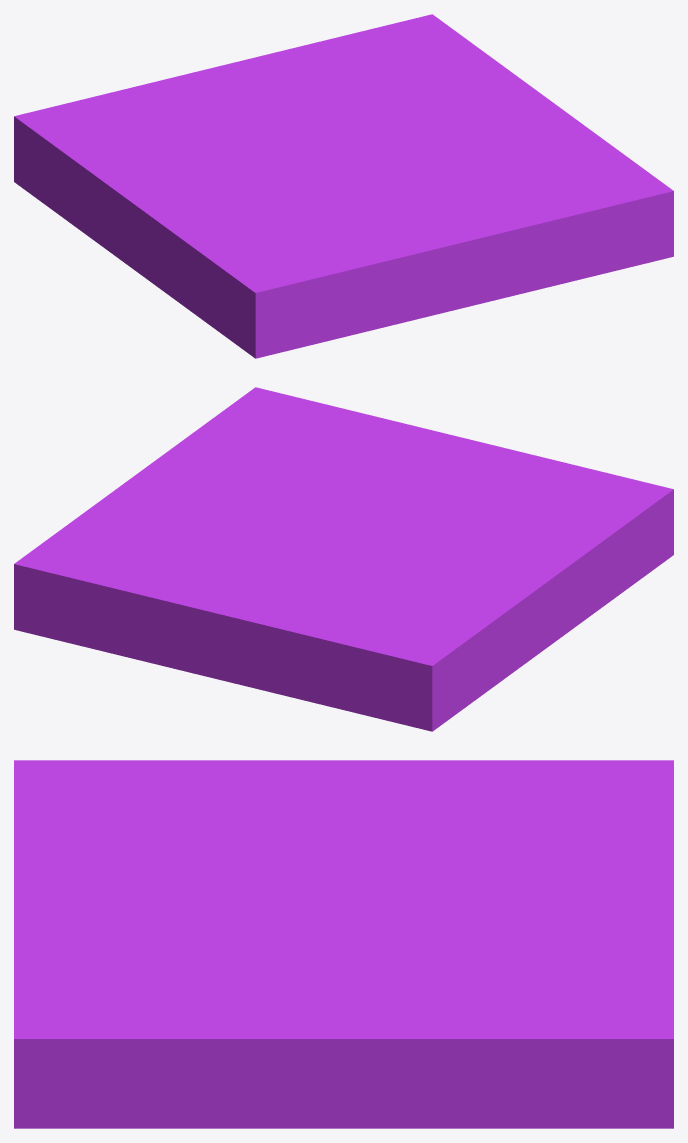
The model's file is suelo-02.gltf.
3 renders of one model, top to bottom at view 1: azimuth 30°, elevation 25°; view 2: azimuth 150°, elevation 25°; view 3: azimuth 270°, elevation 25°, orthographic. The views are drawn at different scales.
Visible parts, largest first — view 1: Object_9.002; view 2: Object_9.002; view 3: Object_9.002.
Part boxes in pixels (box(x1,y1,x2,y2)): Object_9.002: box(14, 14, 673, 358); Object_9.002: box(14, 387, 673, 731); Object_9.002: box(14, 760, 673, 1128).
Bounding box in the file's own units: 2 × 0.3 × 2.
